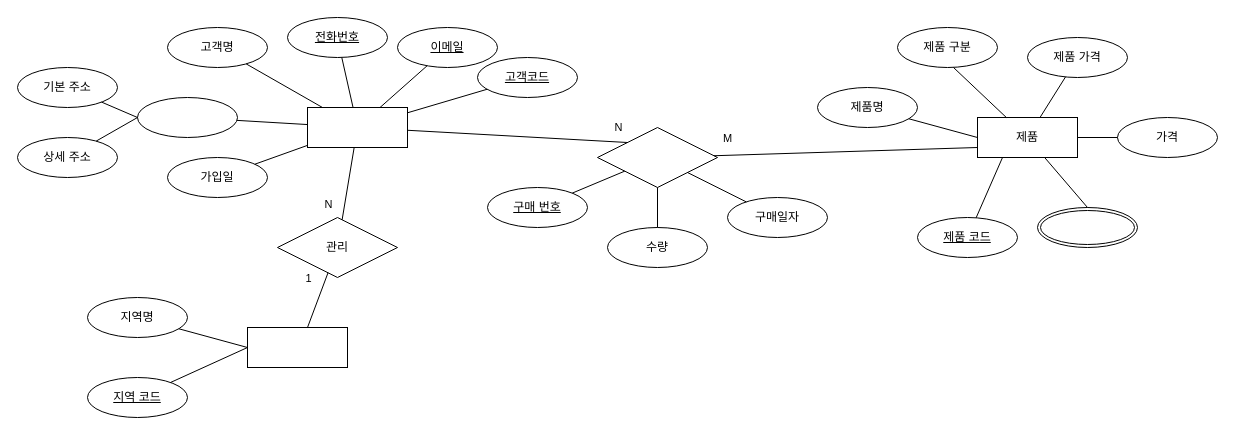
Image size: 1235x435. Some labels were removed from this diagram. Here are the shapes that lost their labels. From the top down, the box of each, then its label:
(136, 96, 238, 138): 주소
(306, 106, 408, 148): 고객
(596, 126, 718, 188): 구매
(1036, 206, 1138, 248): 제품 색상
(246, 326, 348, 368): 지역
